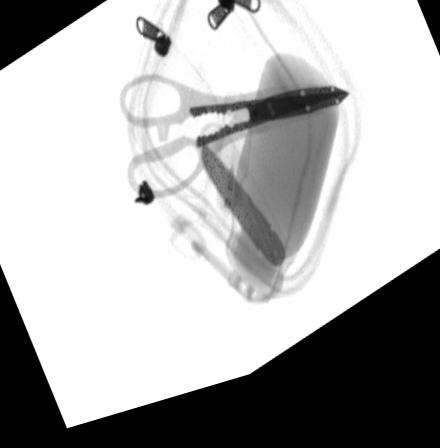Knife: (200, 154, 285, 288)
Scissors: (117, 80, 348, 214)
